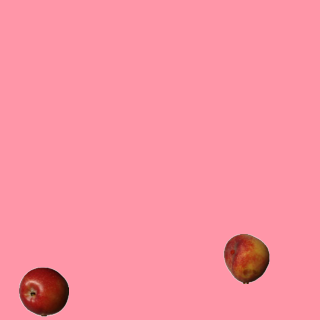Apple Braeburn: (18, 266, 68, 316)
Peach: (221, 233, 271, 283)
